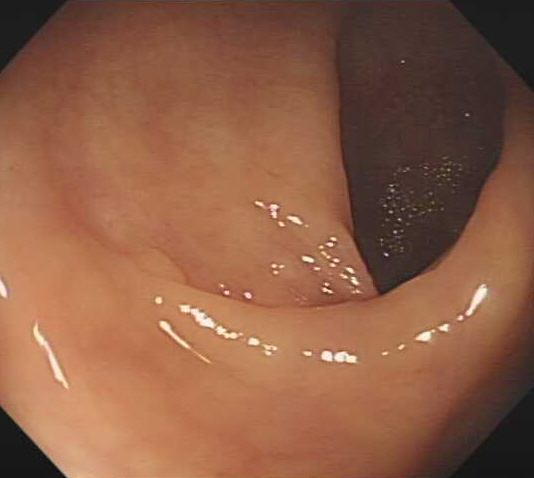others: (129, 237, 191, 296)
